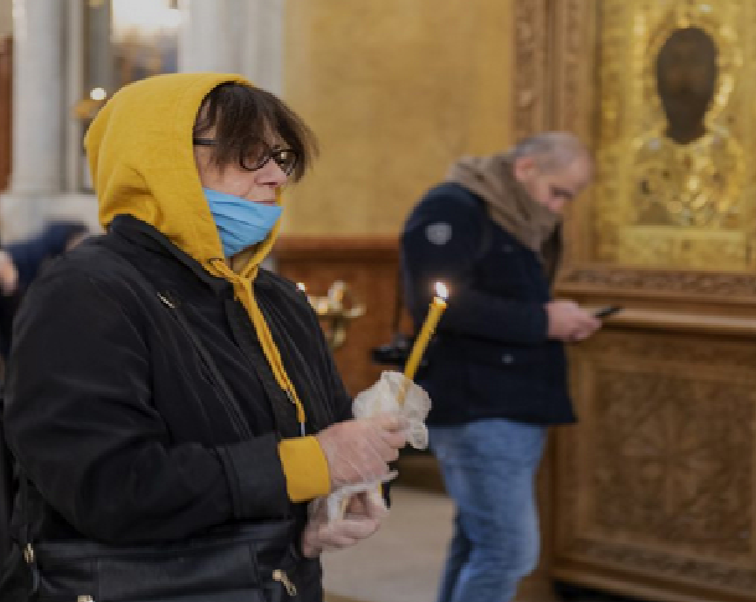mask_weared_incorrect: (91, 72, 302, 257)
